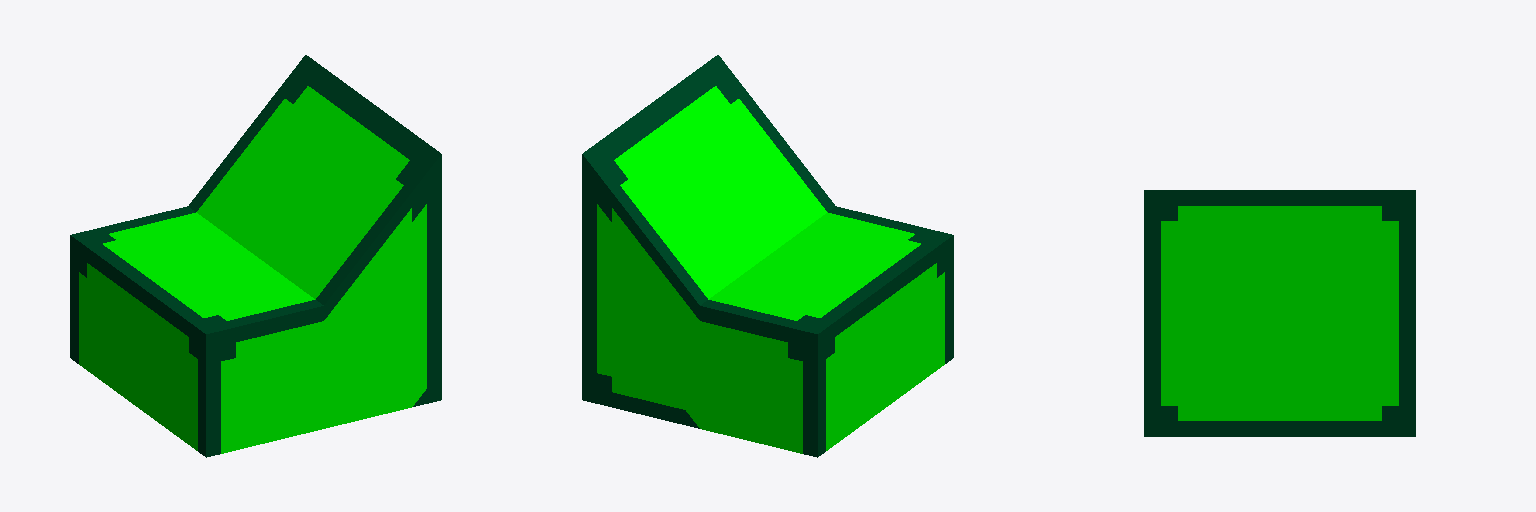
The picture shows the model from 3 angles: view 1: azimuth 30°, elevation 25°; view 2: azimuth 150°, elevation 25°; view 3: azimuth 270°, elevation 25°; orthographic projection.
Visible parts, largest first — view 1: 7_green; view 2: 7_green; view 3: 7_green.
Boxes of the visible parts, box(x1,y1,x2,y2) form: 7_green: box(70, 55, 441, 457); 7_green: box(582, 55, 953, 457); 7_green: box(1144, 190, 1415, 436).
Size of the model in its own units: 1 by 1 by 1.
Materials: 1 (1 with a texture image).